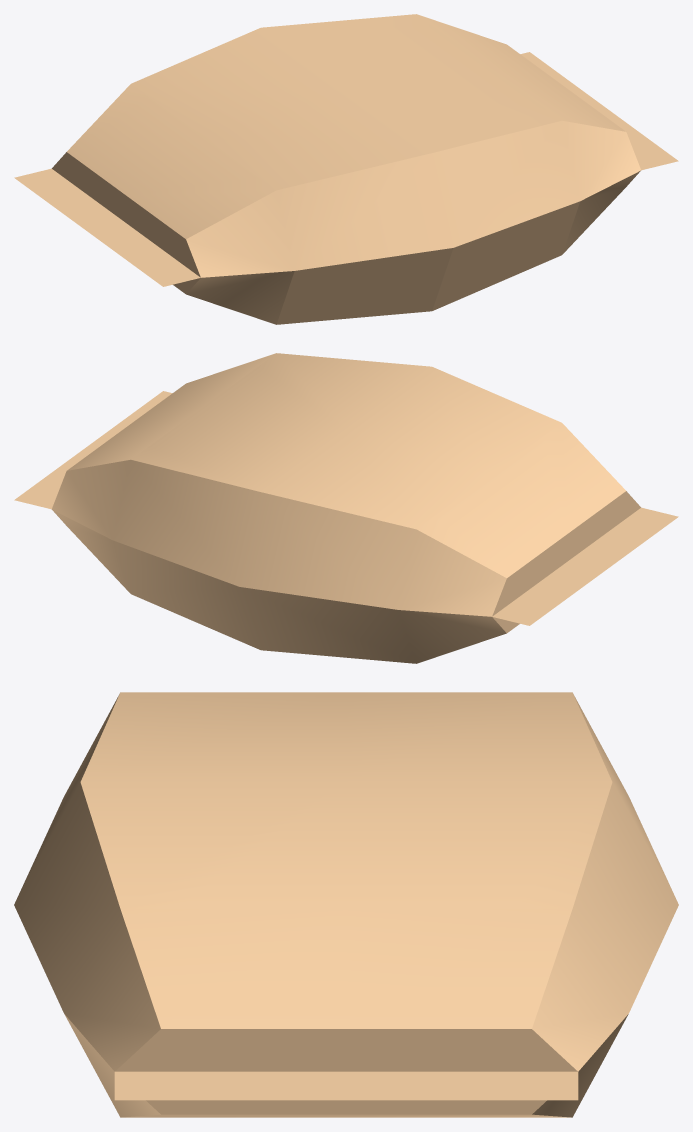
File: Bag Flat.glb
3 views of the same model, one above another, from view 1: azimuth 30°, elevation 25°; view 2: azimuth 150°, elevation 25°; view 3: azimuth 270°, elevation 25° (orthographic). The views are drawn at different scales.
Visible parts, largest first — view 1: Bag Flat; view 2: Bag Flat; view 3: Bag Flat.
Boxes of the visible parts, x1,y1,x2,y2 form: Bag Flat: (14, 14, 678, 324); Bag Flat: (14, 353, 678, 663); Bag Flat: (14, 692, 678, 1117).
Size of the model in its own units: 0.65 by 0.1905 by 0.4675.
